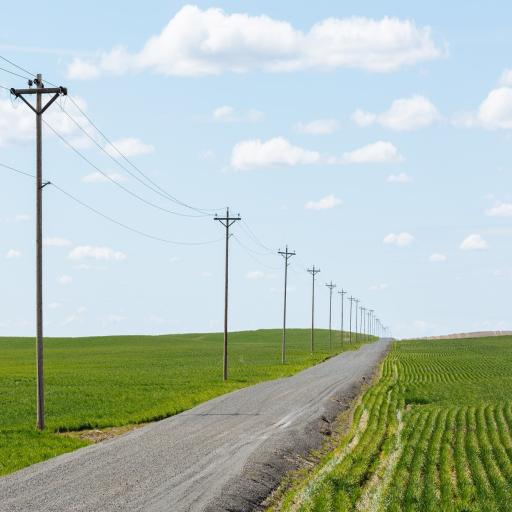Light-pole: (9, 66, 70, 428), (206, 195, 243, 382), (270, 236, 295, 365), (304, 255, 319, 358), (324, 278, 338, 348), (345, 291, 354, 347), (340, 284, 346, 354)
